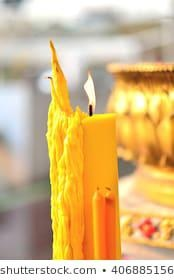fire: (84, 71, 97, 112)
